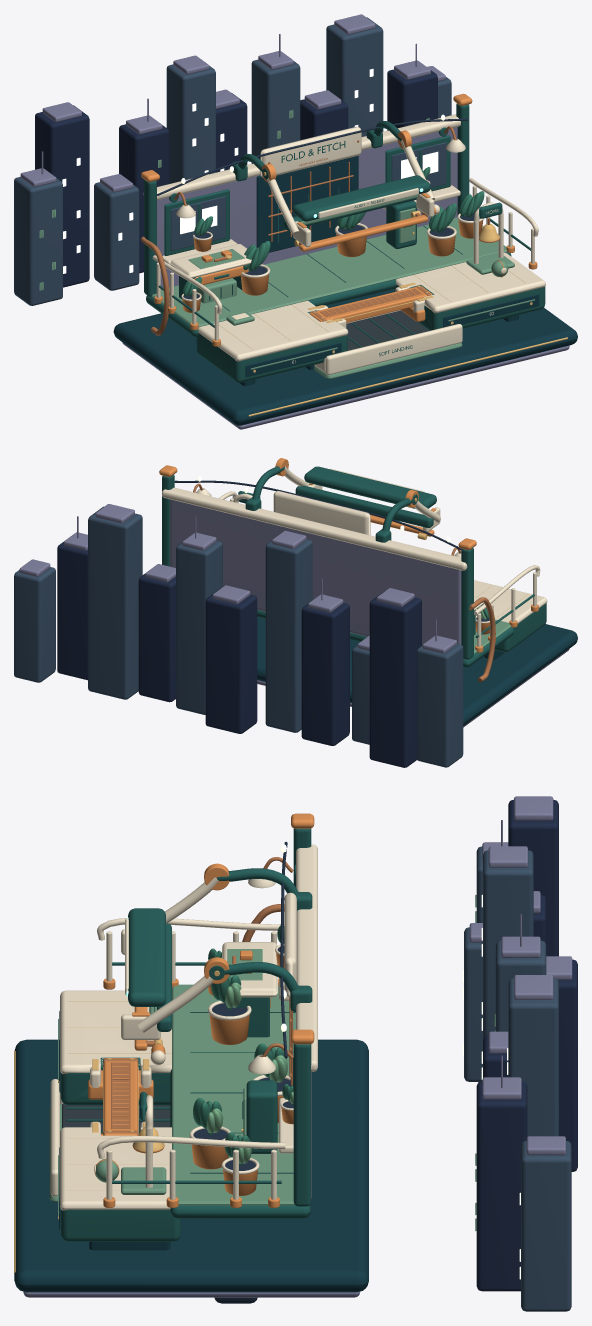
File: 02-garden-assembled.glb
3 views of the same model, one above another, from view 1: azimuth 30°, elevation 25°; view 2: azimuth 150°, elevation 25°; view 3: azimuth 270°, elevation 25° (orthographic). The views are drawn at different scales.
Parts seen in each view (by area): view 1: distant_city_mesh, rooftop_base_mesh, workshop_frame_mesh, floor_left_mesh, floor_right_mesh, recovery_tray_mesh, planters_mesh, upper_chute_mesh, repair_bench_mesh, service_cables_mesh, roof_rails_mesh, bridge_beam_mesh (+3 smaller); view 2: distant_city_mesh, workshop_frame_mesh, rooftop_base_mesh, upper_chute_mesh, floor_left_mesh, service_cables_mesh, roof_rails_mesh, release_gate_mesh; view 3: rooftop_base_mesh, distant_city_mesh, workshop_frame_mesh, floor_right_mesh, upper_chute_mesh, floor_left_mesh, planters_mesh, roof_rails_mesh, service_cables_mesh, repair_bench_mesh, bridge_beam_mesh, recovery_tray_mesh (+3 smaller).
Part boxes in pixels (box(x1,y1,x2,y2)): distant_city_mesh: box(14, 14, 451, 305); rooftop_base_mesh: box(113, 217, 577, 429); workshop_frame_mesh: box(141, 93, 472, 296); floor_left_mesh: box(196, 300, 348, 386); floor_right_mesh: box(394, 252, 545, 330); recovery_tray_mesh: box(314, 310, 462, 378); planters_mesh: box(181, 167, 484, 312); upper_chute_mesh: box(262, 130, 434, 247); repair_bench_mesh: box(170, 244, 251, 303); service_cables_mesh: box(141, 114, 467, 335); roof_rails_mesh: box(152, 178, 538, 346); bridge_beam_mesh: box(309, 285, 432, 322); distant_city_mesh: box(14, 504, 463, 767); workshop_frame_mesh: box(159, 465, 476, 659); rooftop_base_mesh: box(257, 610, 577, 727); upper_chute_mesh: box(275, 458, 440, 531); floor_left_mesh: box(474, 580, 547, 659); service_cables_mesh: box(174, 476, 495, 682); roof_rails_mesh: box(219, 491, 540, 652); release_gate_mesh: box(370, 514, 434, 539); rooftop_base_mesh: box(14, 984, 368, 1303); distant_city_mesh: box(462, 796, 577, 1311); workshop_frame_mesh: box(217, 813, 317, 1206); floor_right_mesh: box(58, 1127, 180, 1250); upper_chute_mesh: box(121, 863, 229, 1039); floor_left_mesh: box(58, 990, 171, 1105); planters_mesh: box(189, 926, 293, 1195); roof_rails_mesh: box(97, 918, 285, 1207); service_cables_mesh: box(241, 842, 287, 1153); repair_bench_mesh: box(222, 942, 277, 1037); bridge_beam_mesh: box(103, 1058, 138, 1135); recovery_tray_mesh: box(49, 1079, 170, 1201).
Bounding box in the file's own units: 11.31 × 5.6 × 8.91.
